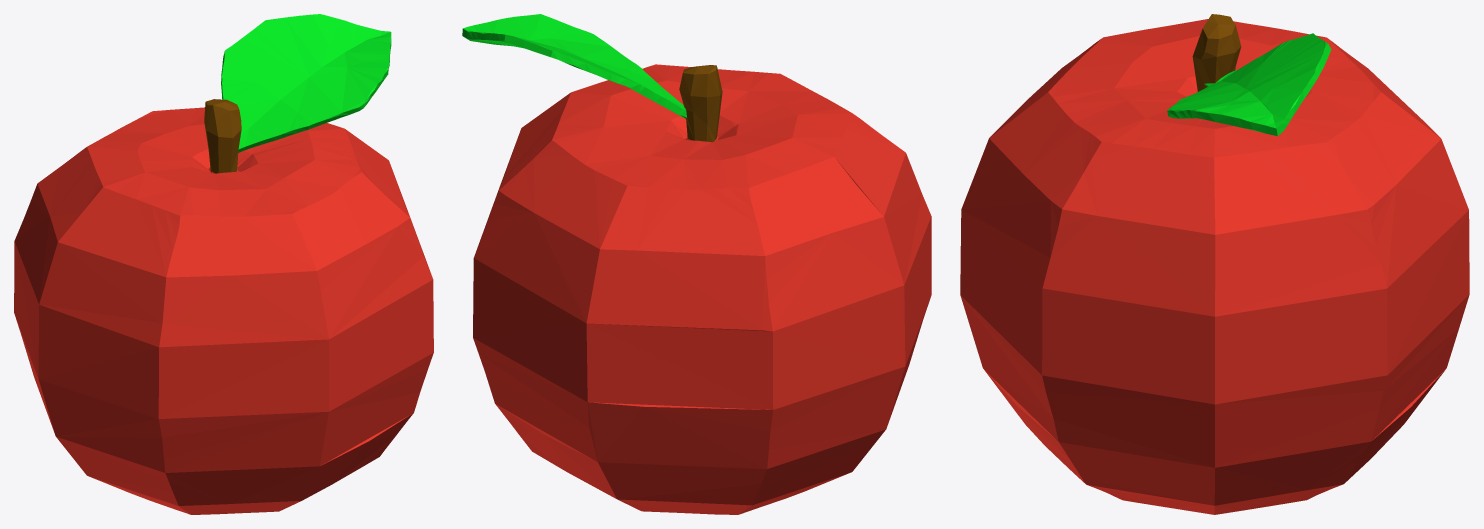
Rendered from apple.glb.
3 renders of one model, left to right at view 1: azimuth 30°, elevation 25°; view 2: azimuth 150°, elevation 25°; view 3: azimuth 270°, elevation 25°, orthographic. The views are drawn at different scales.
Parts seen in each view (by area): view 1: apply; view 2: apply; view 3: apply.
Part boxes in pixels (left/top/right/bottom): apply: left=14, top=14, right=433, bottom=514; apply: left=462, top=14, right=931, bottom=514; apply: left=960, top=14, right=1469, bottom=514.
Bounding box in the file's own units: 1.99 × 1.98 × 1.95.
